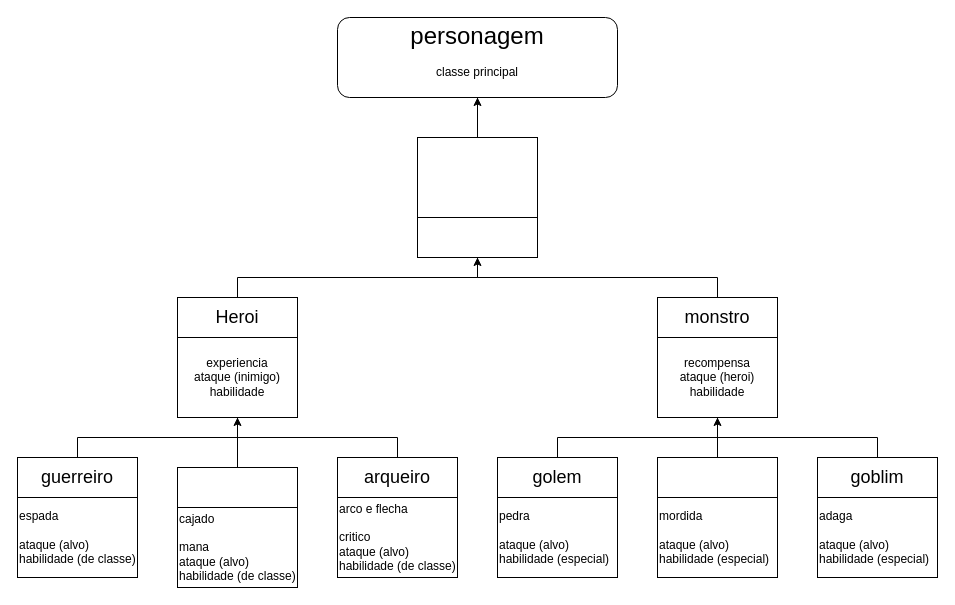
Some shapes in this 955 by 605 pixel diagram are drawn without their labels. The centre of each missing label's shape, as x and y in pixels:
"atacar (alvo) habilidade" goes at pixel 477 237.
"mago" goes at pixel 237 487.
"morto vivo" goes at pixel 717 477.
"nome nível vida ataque defesa" goes at pixel 477 177.
